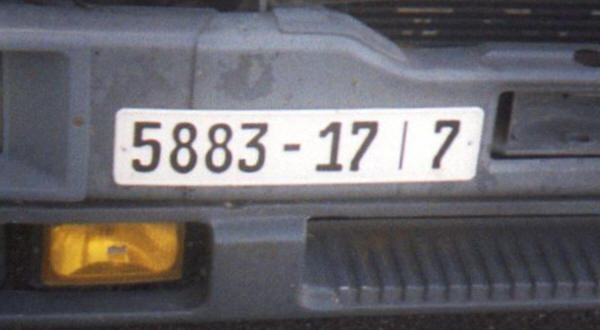number_plate: (116, 101, 486, 188)
